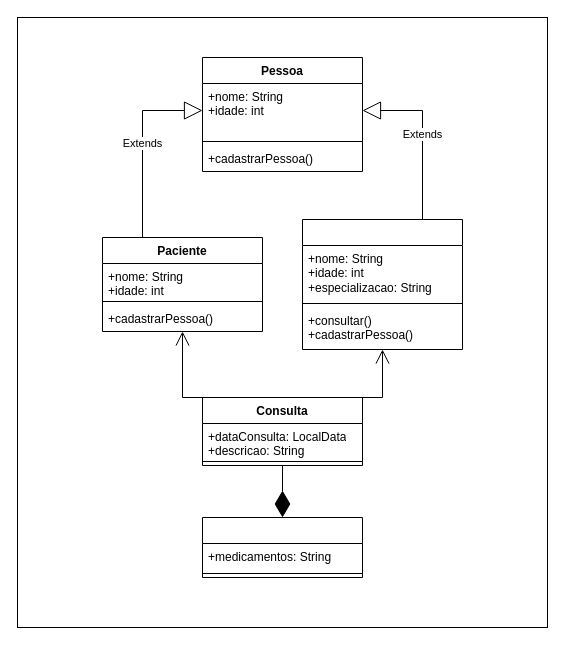
The diagram is 565 pixels wide and 645 high, and some of its shapes have lost their labels. Each missing label, with the box of its shape:
Medico: (302, 218, 462, 350)
Receita: (202, 516, 362, 578)
